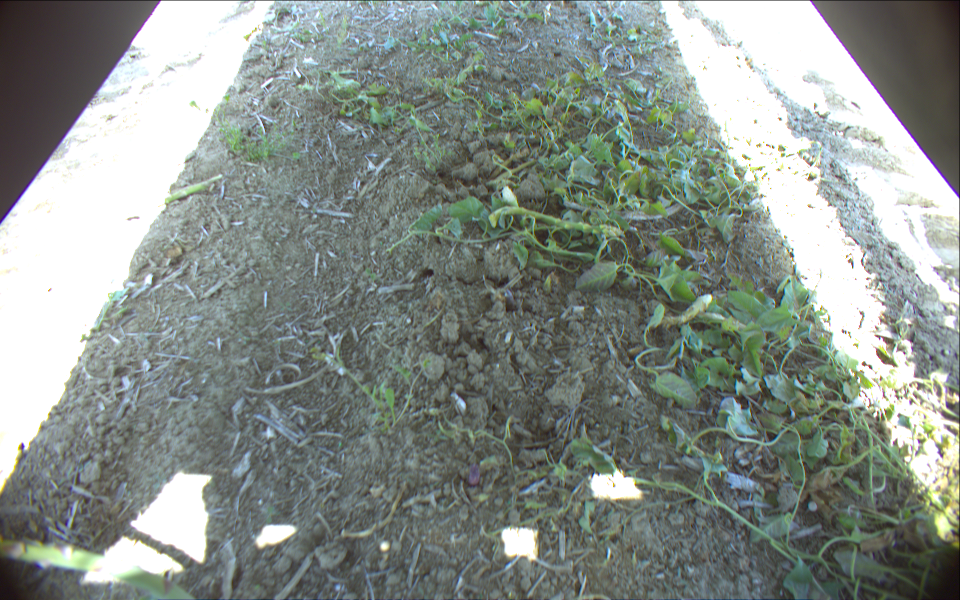aspa: (1, 538, 197, 598), (493, 205, 623, 235), (158, 175, 222, 205)
